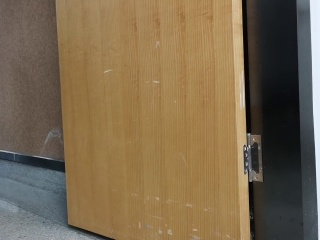room: (5, 4, 311, 237)
